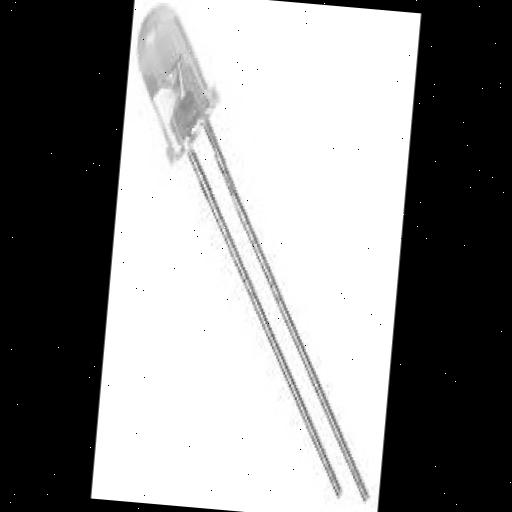LED: (98, 0, 412, 504)
